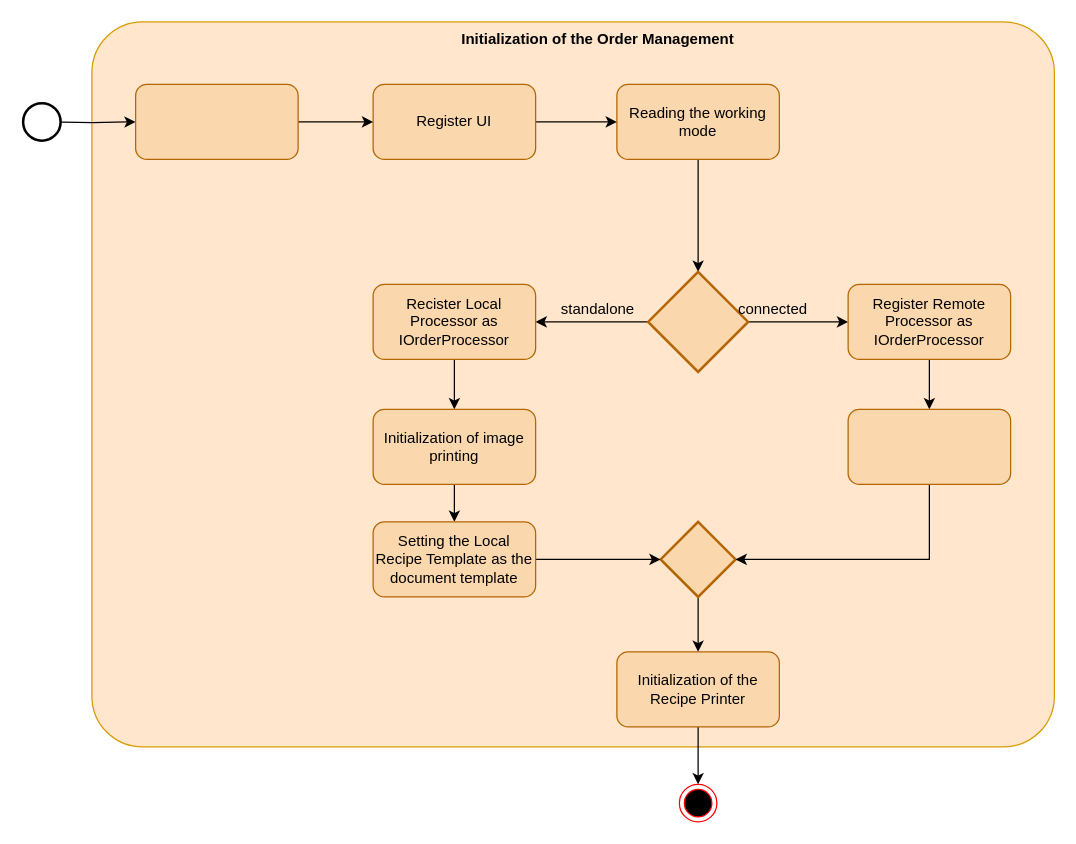
This 1076x844 diagram has some shape labels left out. The shapes that lost their labels are listed below. From the top down, each one's centre as x and y in pixels, then its label:
At point (216, 121): "Loading the workflow configuration".
At point (697, 321): "Working Mode?".
At point (929, 446): "Setting the Remote Recipe Template as a document template".
